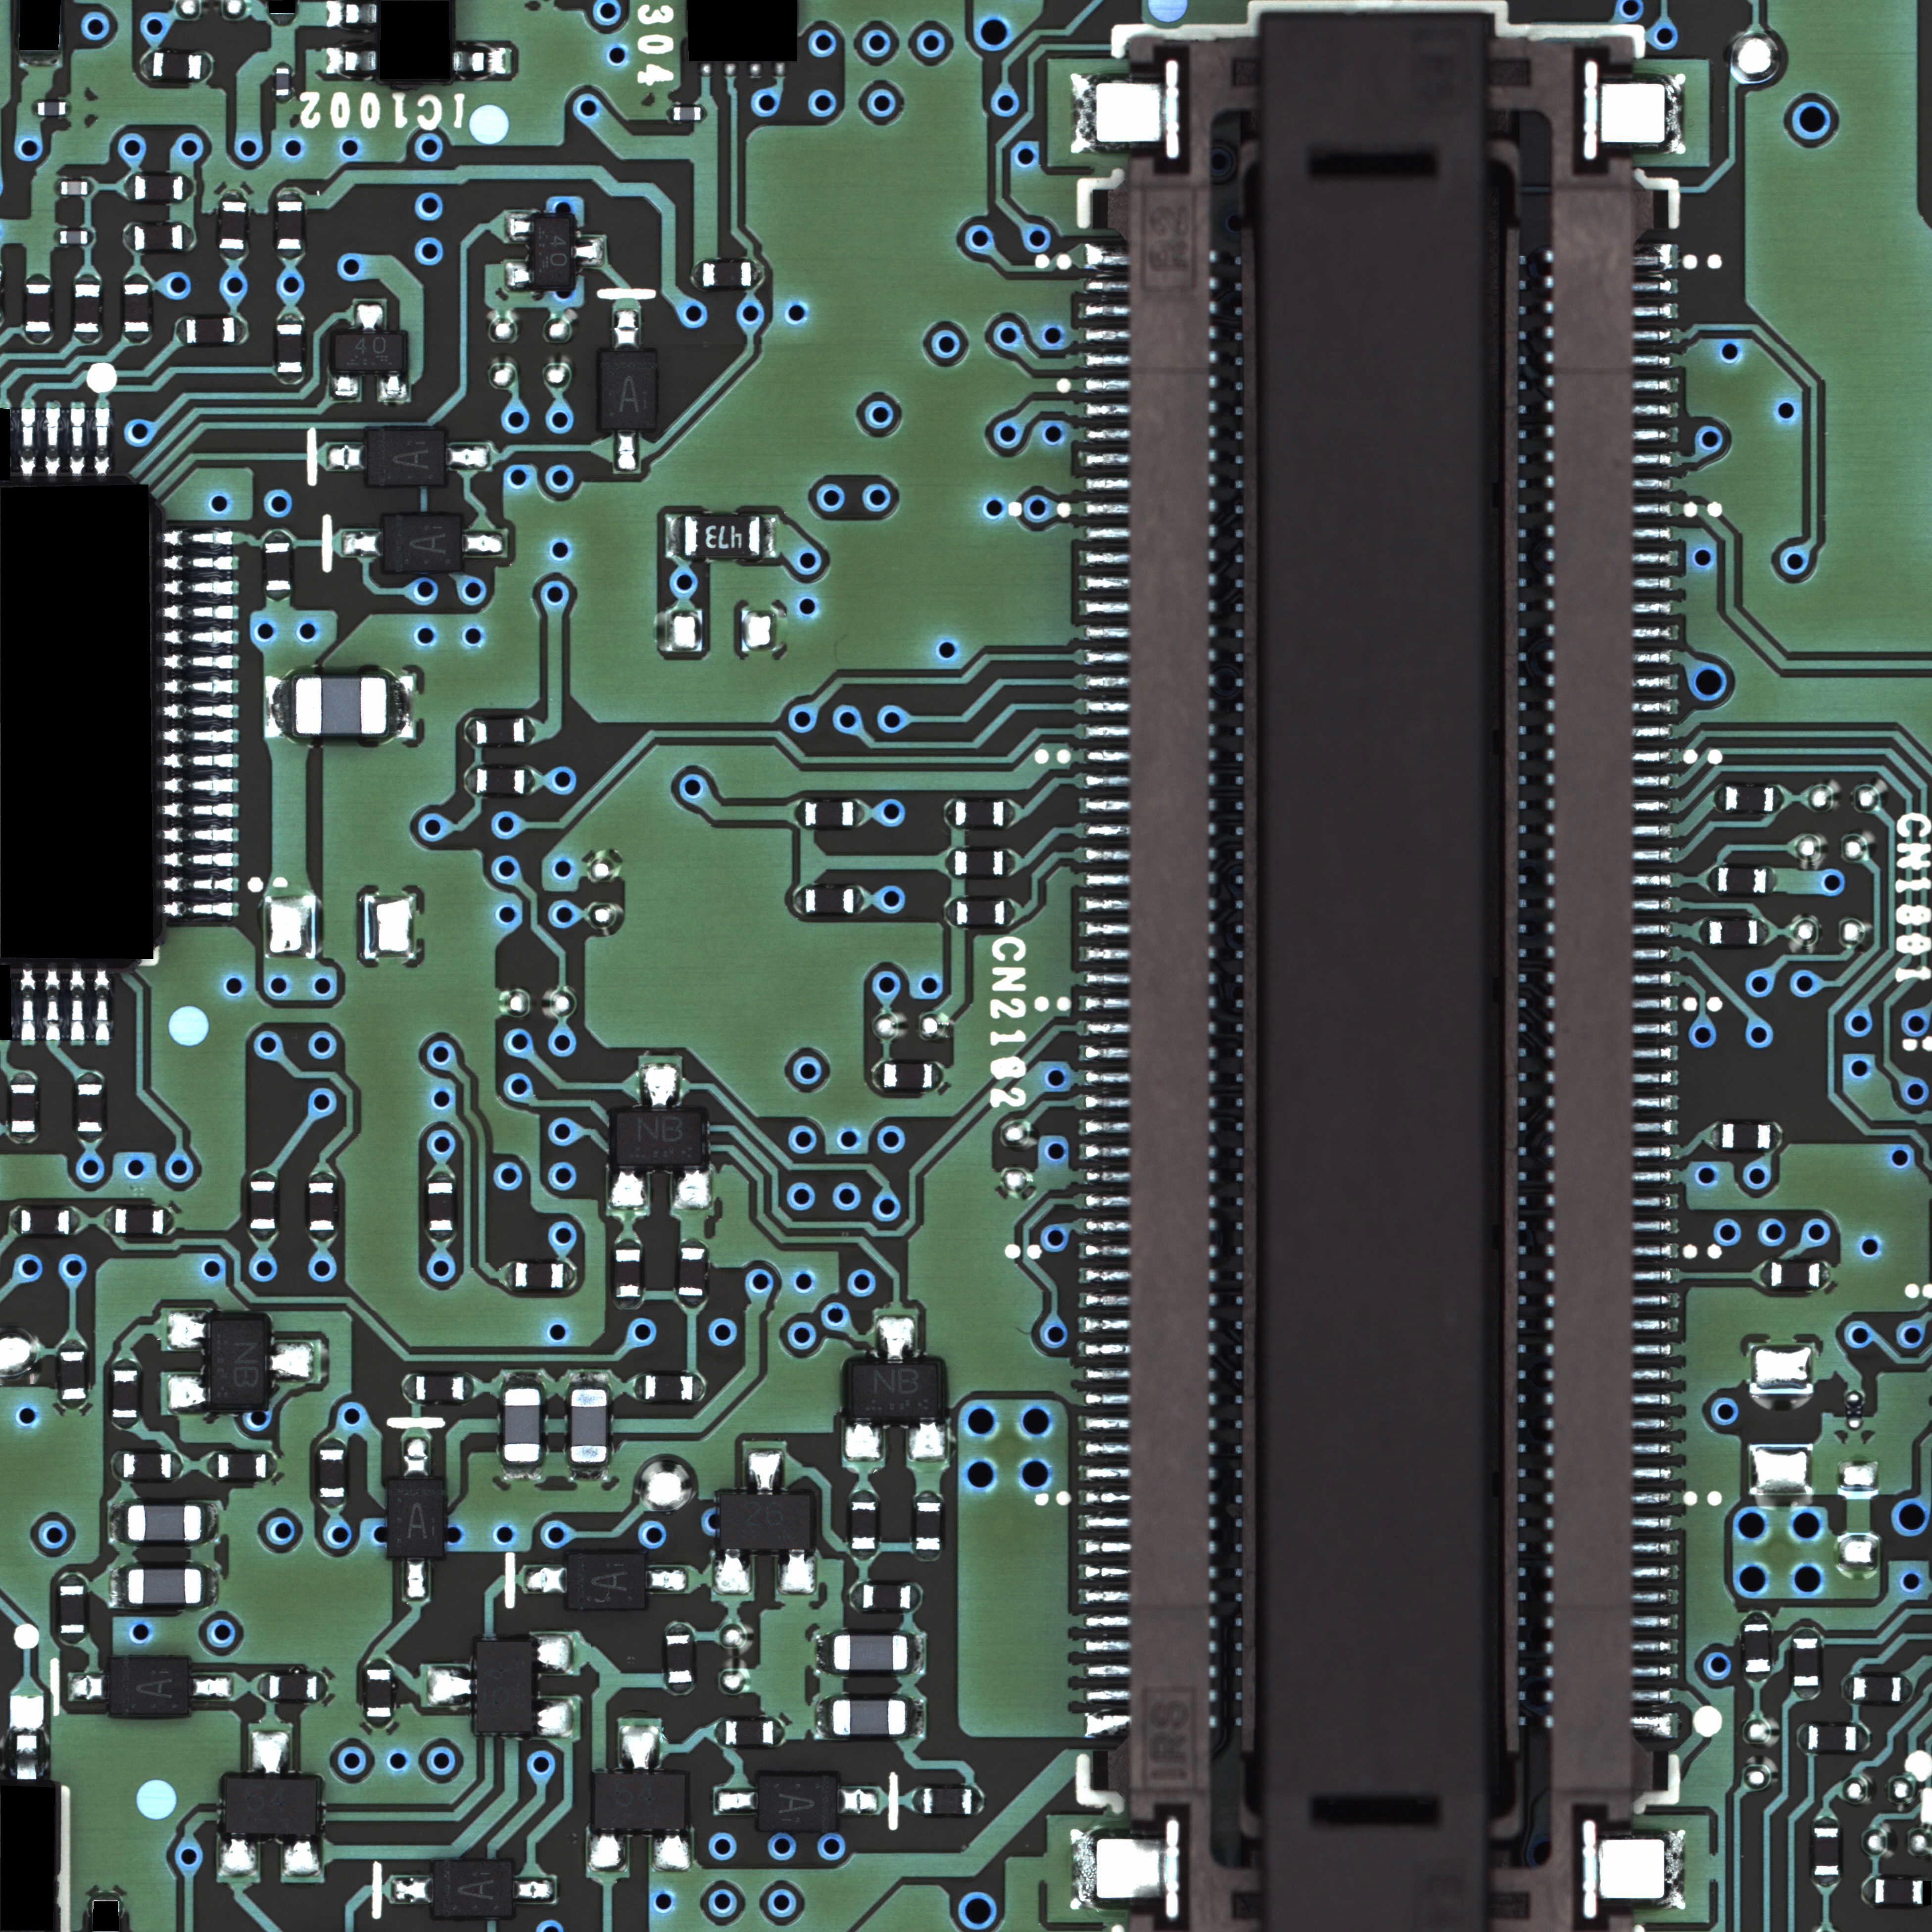Package: (295, 678, 386, 734), (594, 1775, 686, 1829), (478, 1640, 533, 1730), (226, 1778, 317, 1833), (211, 1318, 265, 1407), (720, 1495, 809, 1548), (853, 1364, 939, 1417), (433, 1861, 513, 1916), (384, 517, 462, 571), (110, 1660, 188, 1714), (616, 1113, 699, 1164), (368, 430, 444, 485), (568, 1553, 644, 1608), (389, 1479, 442, 1557), (759, 1776, 837, 1829), (600, 352, 653, 428), (685, 517, 759, 556), (570, 1389, 607, 1463), (127, 1504, 202, 1541), (833, 1633, 908, 1670), (504, 1389, 540, 1463), (127, 1569, 202, 1605), (832, 1700, 906, 1736), (334, 334, 403, 370), (534, 218, 570, 287), (154, 53, 202, 80), (219, 202, 246, 249), (11, 1085, 37, 1132), (416, 1375, 464, 1401), (124, 1451, 172, 1477), (725, 1720, 773, 1746), (1718, 867, 1766, 893), (1792, 1638, 1819, 1686), (1743, 1624, 1769, 1672), (134, 225, 184, 249), (276, 200, 301, 249), (27, 283, 51, 333), (124, 283, 149, 333), (115, 1208, 165, 1233), (702, 262, 752, 287), (515, 1263, 564, 1288), (1813, 1828, 1840, 1874), (74, 285, 99, 333), (476, 718, 524, 743), (478, 770, 525, 794), (78, 1083, 103, 1131), (21, 1210, 69, 1235), (60, 1352, 85, 1399), (60, 1585, 85, 1633), (320, 1449, 345, 1497), (366, 1670, 391, 1718), (805, 801, 853, 826), (805, 888, 853, 913), (616, 1249, 640, 1297), (679, 1247, 704, 1295), (218, 1454, 265, 1479), (269, 1675, 317, 1700), (955, 801, 1003, 826), (955, 851, 1003, 876), (957, 901, 1005, 925), (885, 1063, 932, 1088), (916, 1502, 941, 1550), (924, 1789, 971, 1813), (1725, 786, 1773, 810), (1709, 920, 1757, 945), (1771, 1261, 1819, 1286), (1852, 1675, 1900, 1700), (188, 318, 234, 343), (278, 324, 301, 373), (310, 1184, 334, 1230), (428, 1184, 453, 1230), (646, 1375, 692, 1399), (851, 1502, 876, 1548), (863, 1583, 909, 1608), (1723, 1123, 1769, 1148), (265, 543, 290, 589), (1875, 1879, 1921, 1904), (134, 175, 182, 198), (251, 1180, 274, 1228), (113, 1369, 136, 1417), (667, 1635, 690, 1683), (1808, 1727, 1856, 1750), (60, 230, 88, 244), (39, 101, 65, 115), (276, 67, 288, 96), (60, 182, 87, 195), (674, 108, 701, 120)
Solder: (9, 1695, 44, 1780), (265, 1341, 315, 1384), (619, 1725, 660, 1775), (876, 1315, 916, 1364), (426, 1667, 476, 1706), (672, 1164, 713, 1210), (777, 1550, 817, 1596), (906, 1417, 947, 1463), (265, 676, 295, 738), (251, 1730, 290, 1778), (640, 1063, 679, 1111), (166, 1375, 211, 1415), (587, 1829, 628, 1874), (609, 1164, 648, 1210), (713, 1550, 752, 1596), (281, 1835, 322, 1877), (218, 1835, 258, 1877), (844, 1417, 883, 1461), (747, 1449, 784, 1495), (168, 1311, 211, 1350), (533, 1635, 575, 1674), (653, 1829, 692, 1872), (387, 676, 414, 738), (533, 1698, 573, 1737), (453, 48, 511, 74), (327, 0, 377, 27), (327, 48, 377, 74), (94, 968, 111, 1040), (462, 529, 506, 557), (163, 554, 234, 571), (163, 579, 234, 596), (446, 444, 490, 471), (19, 968, 35, 1040), (44, 968, 60, 1040), (341, 531, 384, 557), (391, 1877, 433, 1904), (837, 1789, 879, 1815), (69, 970, 85, 1040), (163, 605, 234, 621), (163, 630, 234, 646), (165, 704, 235, 720), (165, 801, 235, 817), (165, 851, 235, 867), (165, 876, 235, 892), (165, 902, 235, 918), (19, 407, 35, 476), (163, 529, 232, 545), (165, 655, 234, 671), (165, 679, 234, 695), (165, 727, 234, 743), (165, 752, 234, 768), (165, 777, 234, 793), (165, 826, 234, 842), (189, 1675, 234, 1700), (715, 1789, 759, 1813), (327, 444, 368, 471), (614, 310, 639, 352), (403, 1437, 428, 1479), (403, 1559, 428, 1601), (525, 1568, 568, 1592), (71, 1674, 110, 1700), (614, 430, 639, 471), (646, 1568, 686, 1592), (513, 1877, 554, 1902), (46, 407, 60, 476), (71, 407, 85, 476), (571, 237, 603, 267), (354, 303, 384, 334), (377, 372, 409, 402), (96, 409, 110, 476), (504, 262, 534, 292), (506, 212, 534, 242), (329, 372, 359, 400), (108, 1566, 127, 1608), (665, 517, 685, 557), (906, 1697, 925, 1737), (568, 1371, 610, 1389), (814, 1695, 832, 1737), (19, 50, 62, 67), (202, 1502, 219, 1543), (110, 1502, 127, 1543), (908, 1633, 925, 1674), (570, 1463, 609, 1481), (502, 1463, 541, 1481), (816, 1633, 833, 1672), (203, 1566, 219, 1608), (761, 515, 777, 557), (504, 1371, 541, 1389), (679, 1295, 706, 1309), (140, 53, 154, 78), (317, 1674, 329, 1702), (713, 1718, 725, 1746), (971, 1787, 984, 1815), (1766, 867, 1778, 895), (269, 14, 297, 27), (219, 189, 246, 202), (124, 333, 150, 345), (249, 1230, 276, 1242), (257, 1674, 269, 1700), (403, 1375, 416, 1401), (633, 1375, 646, 1401), (853, 801, 865, 828), (872, 1062, 885, 1088), (773, 1720, 786, 1746), (1706, 867, 1718, 893), (1709, 1122, 1721, 1148), (1819, 1261, 1831, 1288), (932, 1062, 943, 1092), (74, 333, 99, 345), (278, 311, 303, 324), (265, 591, 290, 603), (60, 1339, 85, 1352), (310, 1171, 334, 1184), (428, 1230, 453, 1242), (616, 1297, 640, 1309), (366, 1718, 391, 1730), (793, 888, 805, 913), (916, 1490, 941, 1502), (1713, 786, 1725, 810), (1757, 920, 1769, 945), (1856, 1727, 1868, 1752), (1815, 1875, 1840, 1888), (1863, 1879, 1875, 1904), (165, 1207, 175, 1235), (104, 1207, 115, 1235), (173, 1451, 184, 1479), (267, 1451, 278, 1479), (564, 1261, 575, 1290), (855, 886, 865, 915), (945, 899, 955, 927), (1771, 1122, 1782, 1150), (320, 1437, 343, 1449), (60, 1573, 83, 1585), (669, 1622, 692, 1635), (853, 1550, 876, 1562), (184, 223, 195, 249), (276, 249, 303, 260), (25, 333, 51, 343), (235, 317, 246, 343), (11, 1072, 37, 1083), (11, 1132, 37, 1143), (69, 1208, 80, 1235), (11, 1208, 21, 1235), (113, 1451, 124, 1477), (58, 1633, 85, 1644), (525, 718, 536, 745), (525, 768, 536, 794), (426, 1171, 453, 1182), (464, 1375, 474, 1401), (694, 1375, 704, 1401), (752, 260, 763, 287), (692, 260, 702, 287), (945, 800, 955, 826), (1005, 849, 1016, 876), (1005, 901, 1016, 927), (911, 1583, 922, 1610), (1775, 786, 1785, 812), (1760, 1261, 1771, 1288), (1743, 1612, 1769, 1622), (1902, 1675, 1913, 1702), (202, 55, 212, 80), (184, 175, 195, 200), (124, 225, 134, 249), (221, 249, 246, 260), (175, 318, 186, 343), (278, 373, 303, 384), (265, 531, 290, 541), (78, 1072, 103, 1083), (78, 1132, 103, 1143), (310, 1231, 334, 1242), (113, 1359, 138, 1369), (111, 1419, 136, 1430), (207, 1454, 218, 1479), (318, 1499, 343, 1509), (504, 1263, 515, 1288), (616, 1238, 640, 1249), (366, 1658, 391, 1668), (851, 1490, 876, 1500), (851, 1583, 862, 1608), (1005, 801, 1016, 826), (1698, 920, 1709, 945), (1794, 1688, 1819, 1698), (1798, 1725, 1808, 1750), (1813, 1817, 1838, 1828), (747, 62, 763, 78), (465, 717, 474, 745), (92, 1891, 120, 1900), (124, 175, 134, 198), (62, 1399, 85, 1410), (465, 770, 476, 793), (918, 1550, 941, 1560), (25, 274, 51, 283), (679, 1238, 706, 1247), (945, 849, 954, 876), (1792, 1628, 1819, 1637), (1744, 1674, 1771, 1683), (74, 274, 99, 283), (124, 274, 149, 283), (249, 1171, 274, 1180), (667, 1684, 692, 1693), (794, 801, 803, 826), (913, 1789, 922, 1813), (1844, 1675, 1852, 1700), (724, 62, 738, 76), (276, 193, 303, 200), (773, 62, 786, 76), (699, 64, 713, 76), (274, 96, 290, 104), (30, 101, 37, 117), (53, 180, 60, 196), (53, 230, 60, 246), (701, 106, 708, 122), (274, 62, 290, 67), (67, 101, 73, 117), (88, 180, 94, 196), (88, 230, 94, 246), (667, 106, 672, 120)
